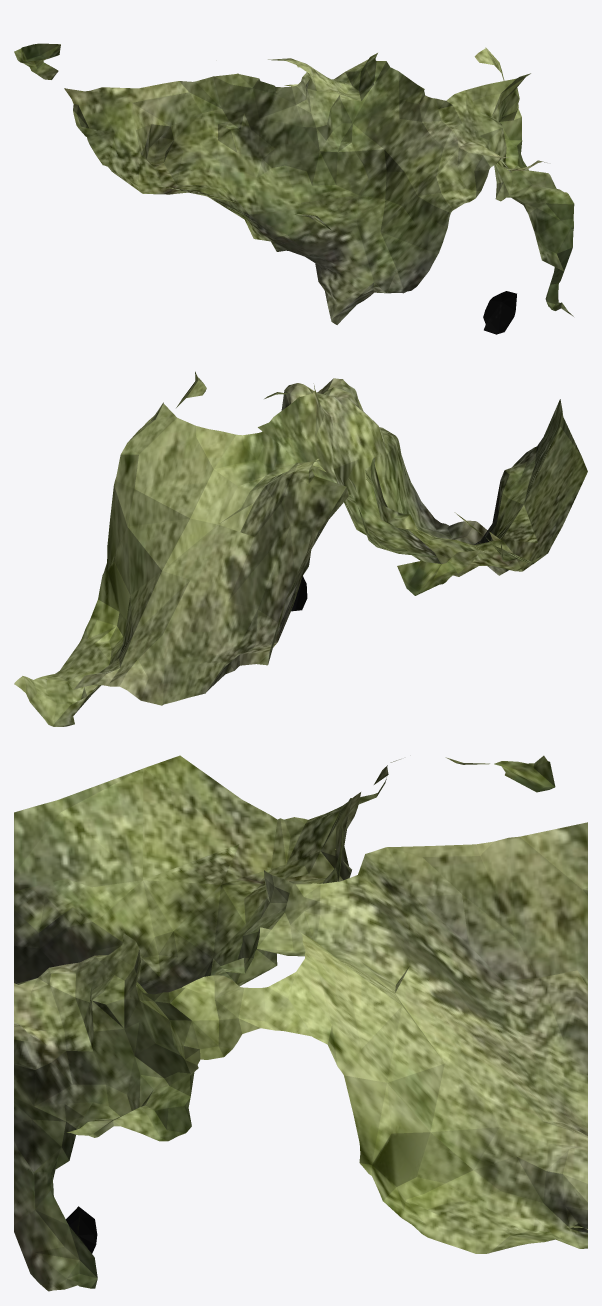
3 renders of one model, top to bottom at view 1: azimuth 30°, elevation 25°; view 2: azimuth 150°, elevation 25°; view 3: azimuth 270°, elevation 25°, orthographic. The views are drawn at different scales.
Bounding box in the file's own units: 5.9 × 3.48 × 5.9.
3 materials, 3 textured.
